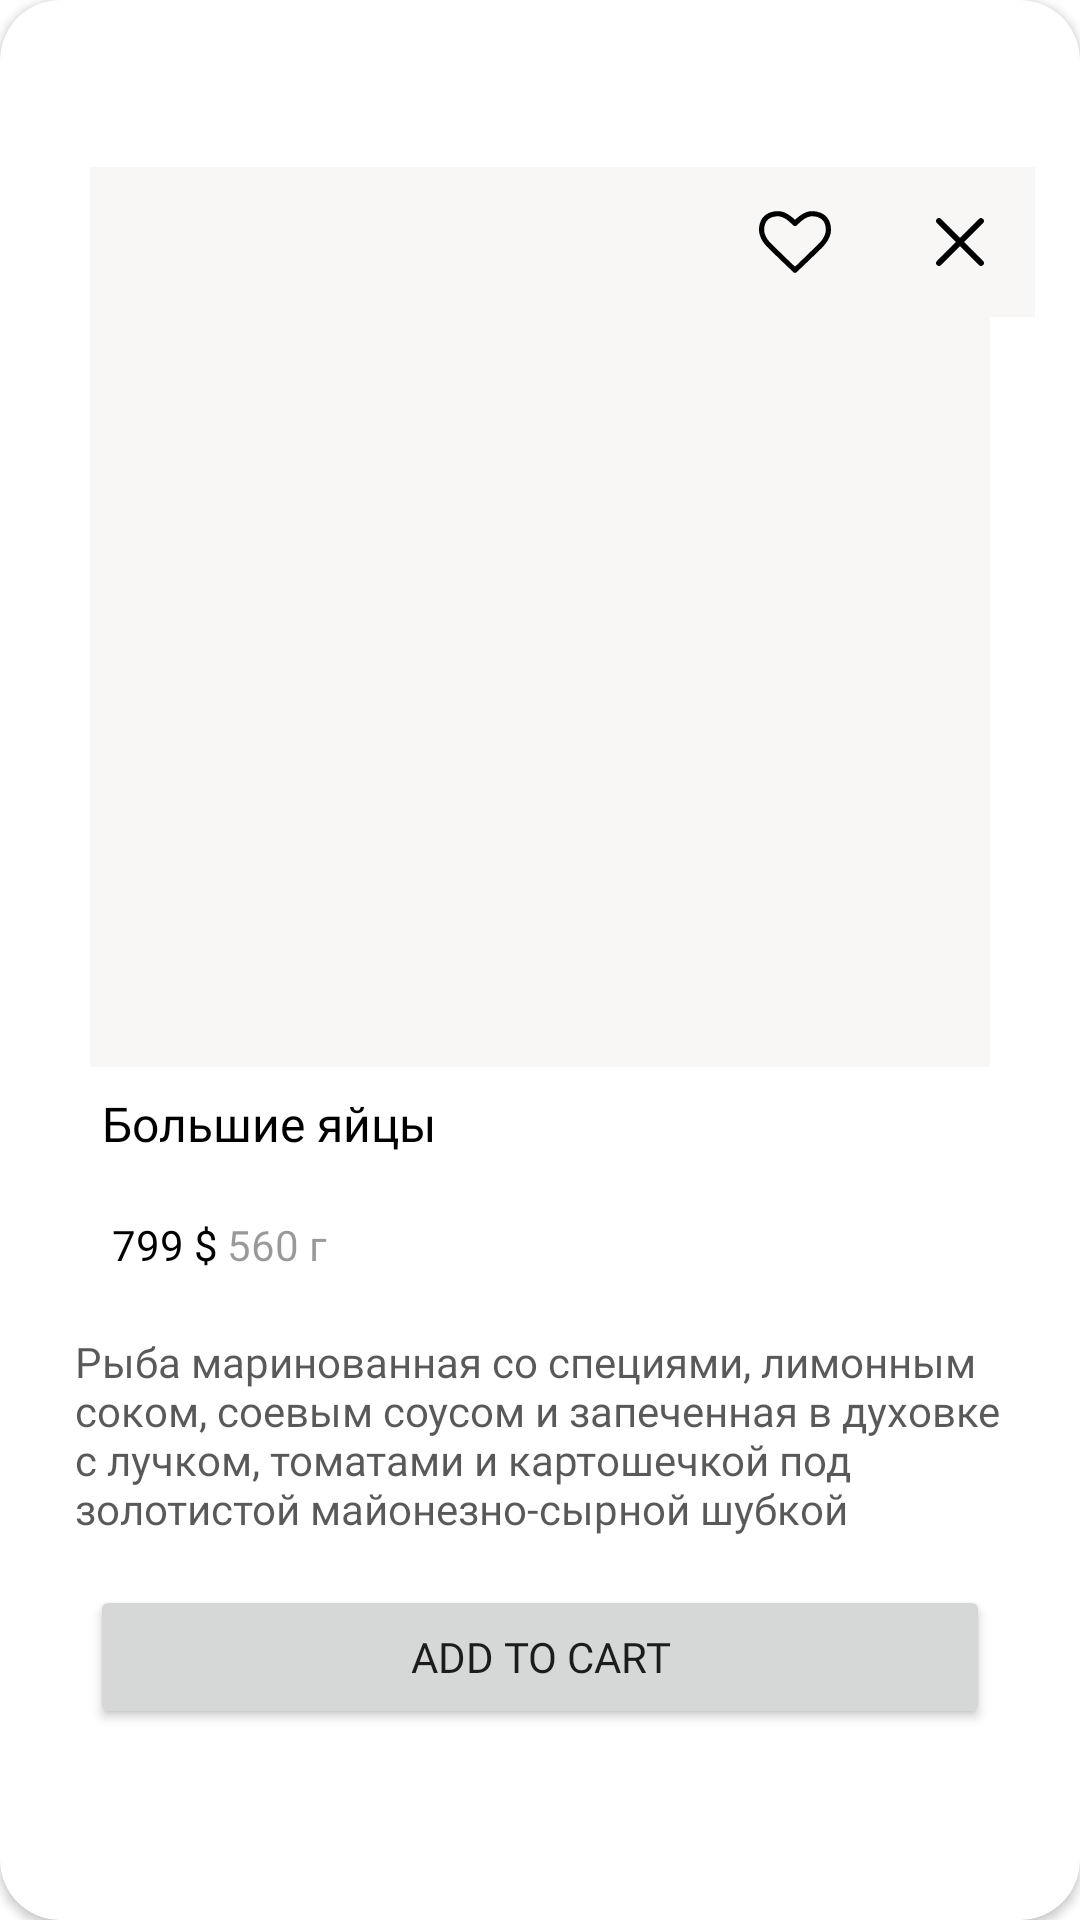

Icons on this 1080w x 1920h Android screen, each with its box as (x1, y1, x2, y2):
cross: (936, 218, 984, 266)
heart: (759, 211, 831, 273)
